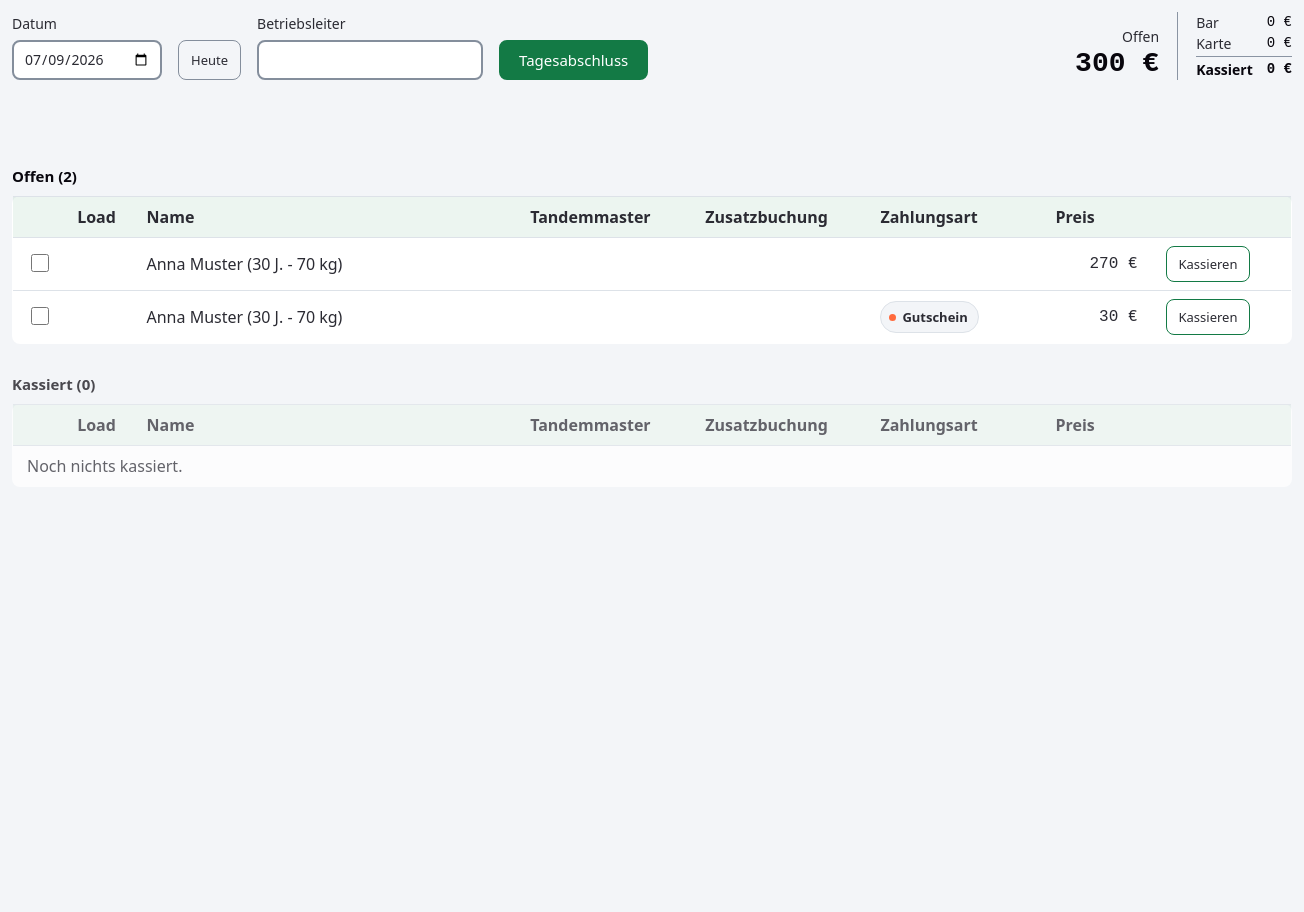
Test case: List › Export-Warnung › reads naturally when an open voucher row is also missing a Zahlungsart
This screenshot has width=1304, height=912.
What coordinates should you click on to do the following:
click the button "Tagesabschluss"
I would click on:
 (574, 60)
Its box is [499, 40, 648, 80].
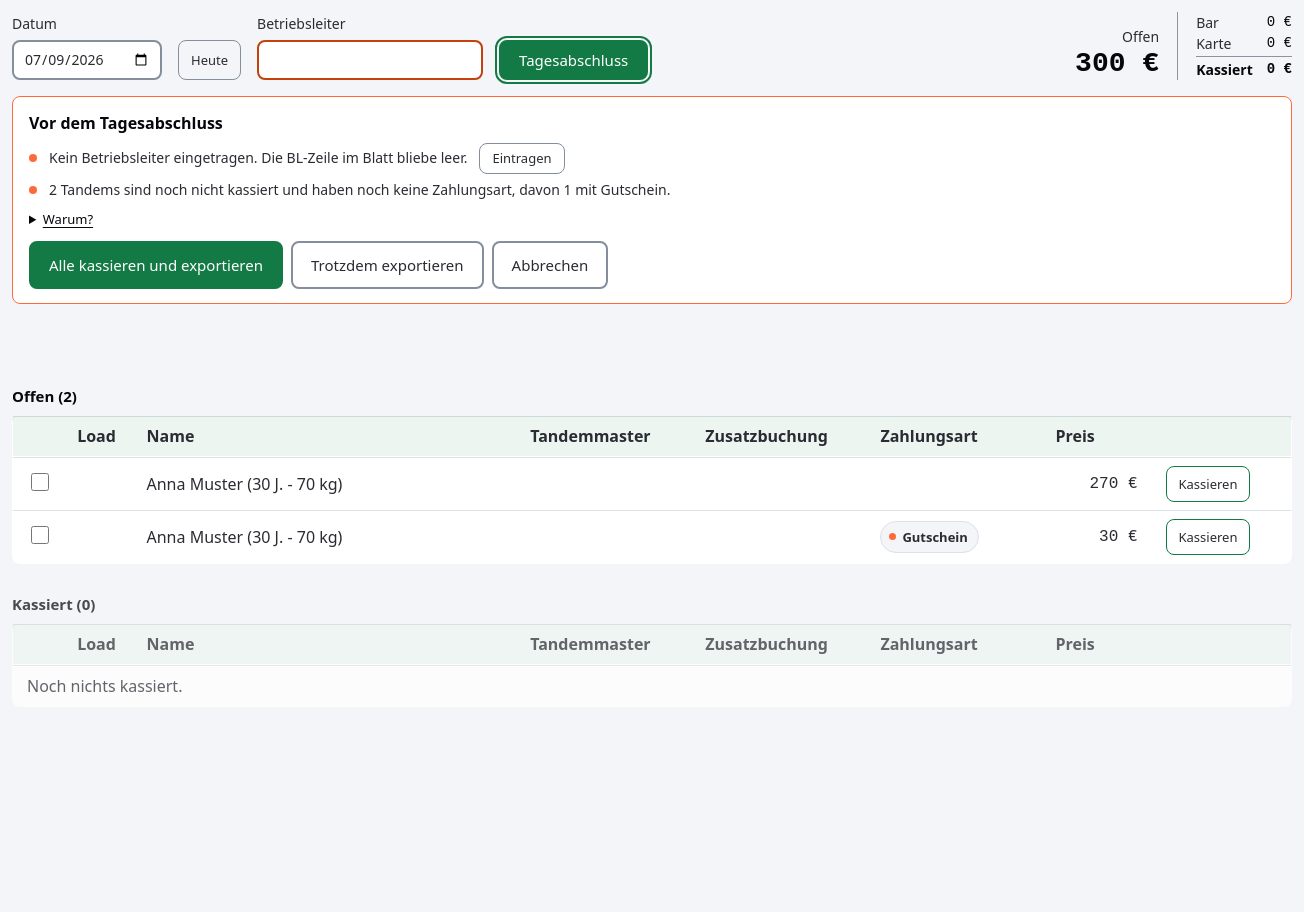
Now the text "2 Tandems sind noch nicht kassiert und haben noch keine Zahlungsart, davon 1 mit Gutschein." is shown, box [49, 180, 670, 199]
